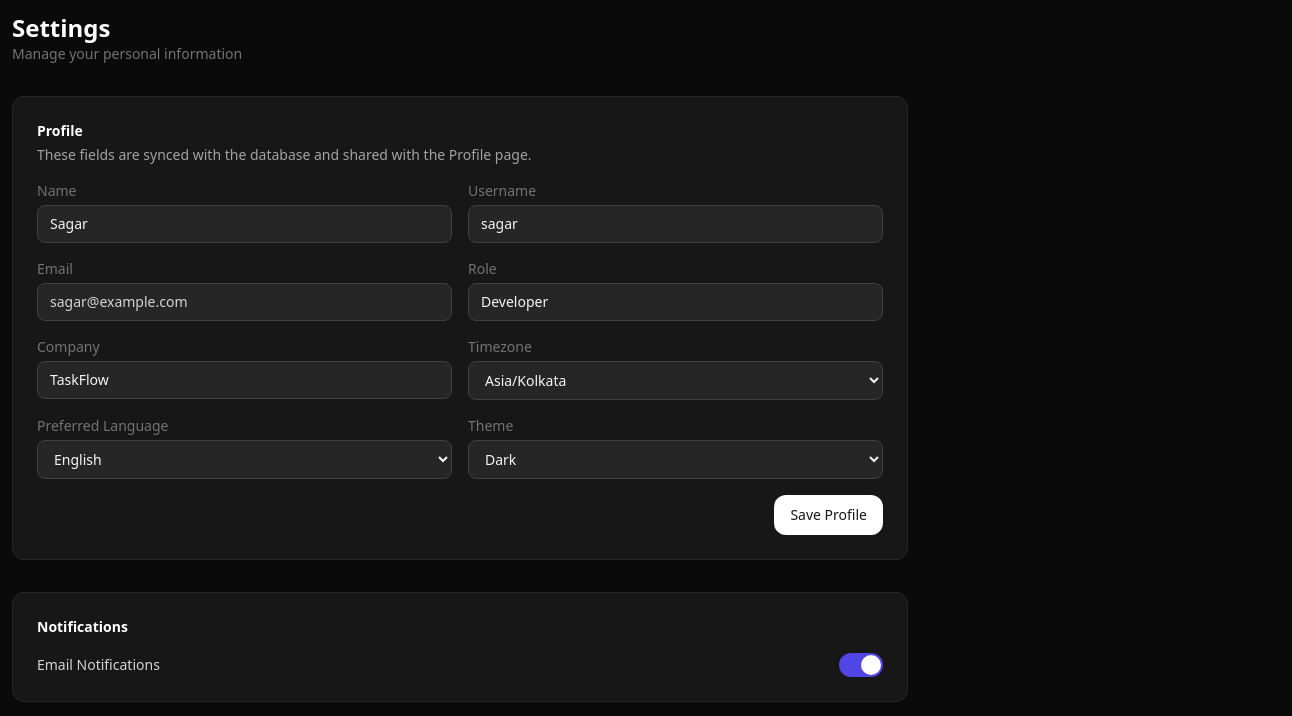
Settings › loads the profile and saves the current settings
Expected: the 1st field showing "Sagar" is shown, [37, 205, 452, 243]
Click the button "Save Profile" at x=829, y=515, box [774, 495, 883, 535]
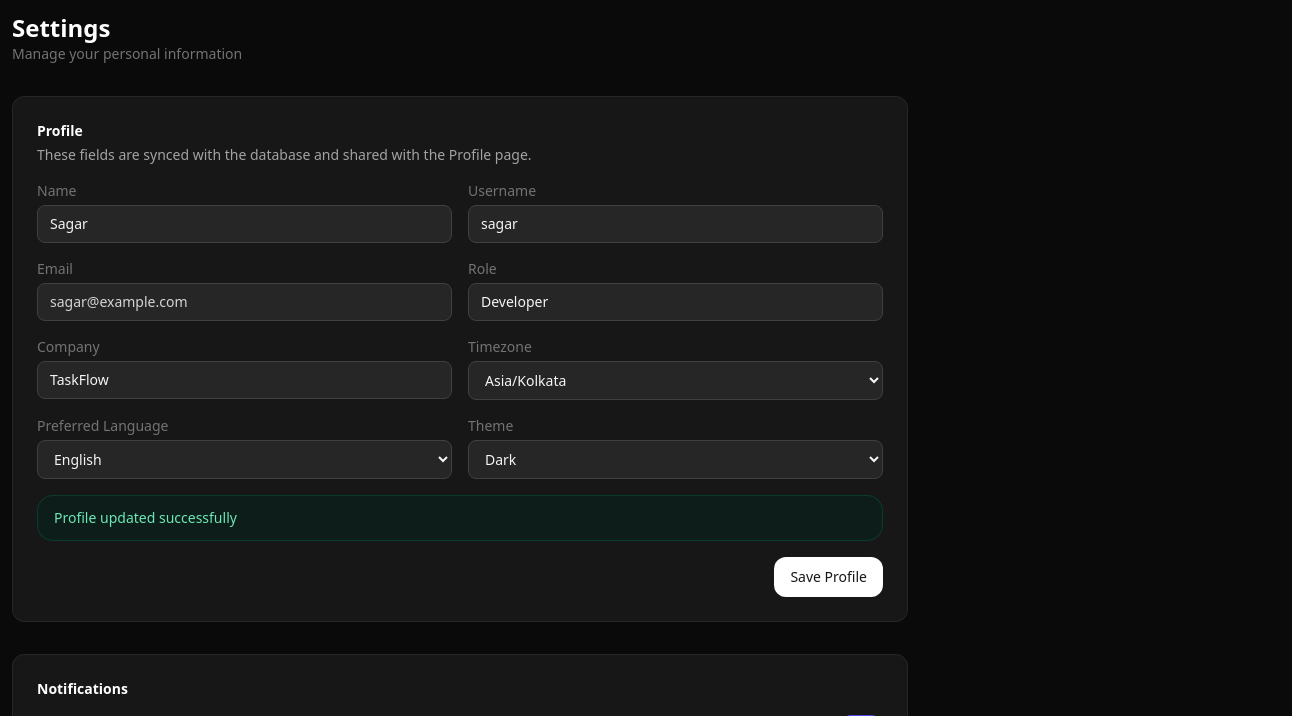
Now the text "Profile updated successfully" is shown, box [37, 495, 883, 541]
